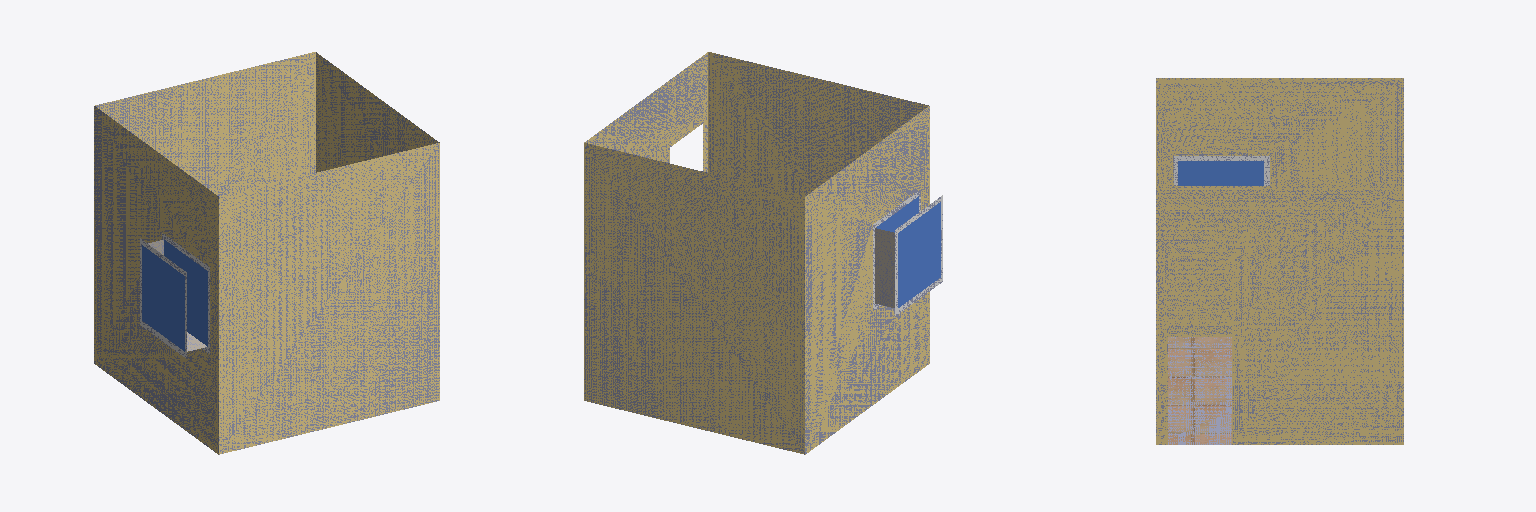
The picture shows the model from 3 angles: view 1: azimuth 30°, elevation 25°; view 2: azimuth 150°, elevation 25°; view 3: azimuth 270°, elevation 25°; orthographic projection.
Parts seen in each view (by area): view 1: Mesh5 DES036 Model, Mesh1 Group1 DES036 Model; view 2: Mesh5 DES036 Model, Mesh1 Group1 DES036 Model; view 3: Mesh5 DES036 Model, Mesh1 Group1 DES036 Model.
Boxes of the visible parts, <box> form: Mesh5 DES036 Model: <box>94,52,439,454</box>; Mesh1 Group1 DES036 Model: <box>140,233,209,358</box>; Mesh5 DES036 Model: <box>584,52,929,454</box>; Mesh1 Group1 DES036 Model: <box>873,190,942,315</box>; Mesh5 DES036 Model: <box>1156,78,1403,444</box>; Mesh1 Group1 DES036 Model: <box>1174,156,1269,185</box>.
Size of the model in its own units: 2.96 by 3 by 2.62.
Materials: 6 (1 with a texture image).